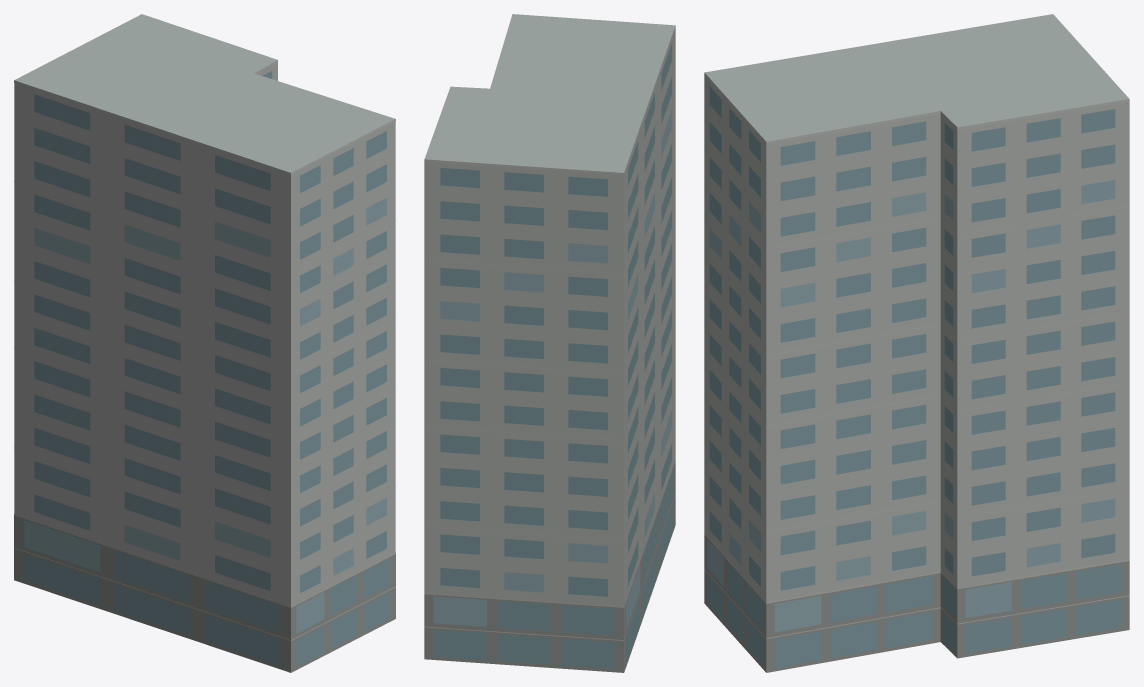
Rendered from residential-3bcd2c77-cd39-4a4c-82c0-3f25f6715324.glb.
3 renders of one model, left to right at view 1: azimuth 30°, elevation 25°; view 2: azimuth 150°, elevation 25°; view 3: azimuth 270°, elevation 25°, orthographic. The views are drawn at different scales.
Parts seen in each view (by area): view 1: residential-3bcd2c77-cd39-4a4c-82c0-3f25f6715324.tmp; view 2: residential-3bcd2c77-cd39-4a4c-82c0-3f25f6715324.tmp; view 3: residential-3bcd2c77-cd39-4a4c-82c0-3f25f6715324.tmp.
Part boxes in pixels (x1,y1,x2,y2): residential-3bcd2c77-cd39-4a4c-82c0-3f25f6715324.tmp: [14, 14, 395, 672]; residential-3bcd2c77-cd39-4a4c-82c0-3f25f6715324.tmp: [424, 14, 675, 672]; residential-3bcd2c77-cd39-4a4c-82c0-3f25f6715324.tmp: [704, 14, 1129, 672].
Size of the model in its own units: 25.84 by 50 by 36.29.
